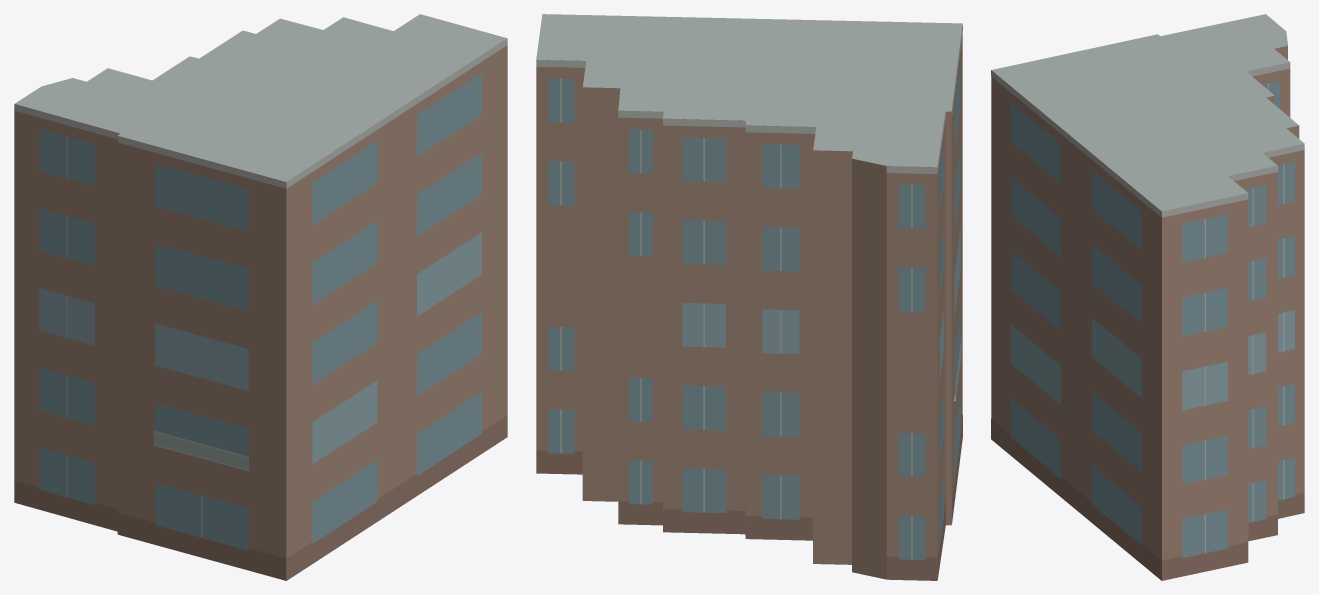
Rendered from survey-upis-32697507.glb.
3 views of the same model, side by side, from view 1: azimuth 30°, elevation 25°; view 2: azimuth 150°, elevation 25°; view 3: azimuth 270°, elevation 25° (orthographic). The views are drawn at different scales.
Parts seen in each view (by area): view 1: survey-upis-32697507.tmp; view 2: survey-upis-32697507.tmp; view 3: survey-upis-32697507.tmp.
Boxes of the visible parts, bbox=[...] form: survey-upis-32697507.tmp: bbox=[14, 14, 507, 580]; survey-upis-32697507.tmp: bbox=[536, 14, 962, 580]; survey-upis-32697507.tmp: bbox=[991, 14, 1304, 580].
Bounding box in the file's own units: 16.64 × 14.5 × 11.16.
